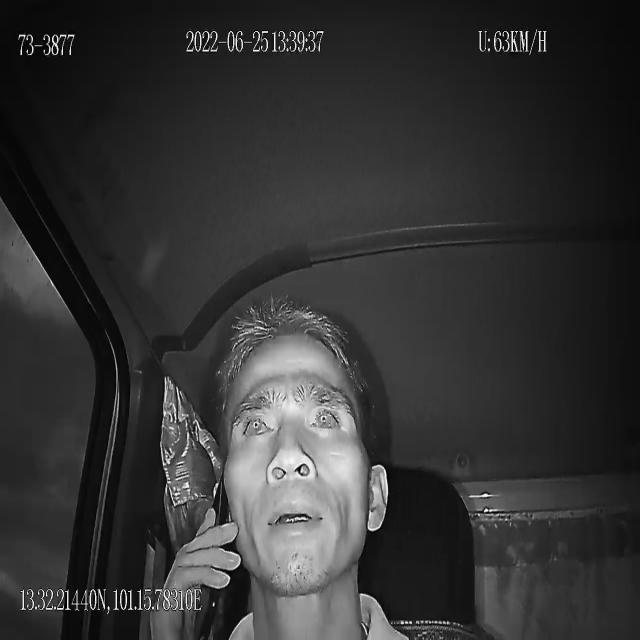phone: (192, 470, 229, 640)
